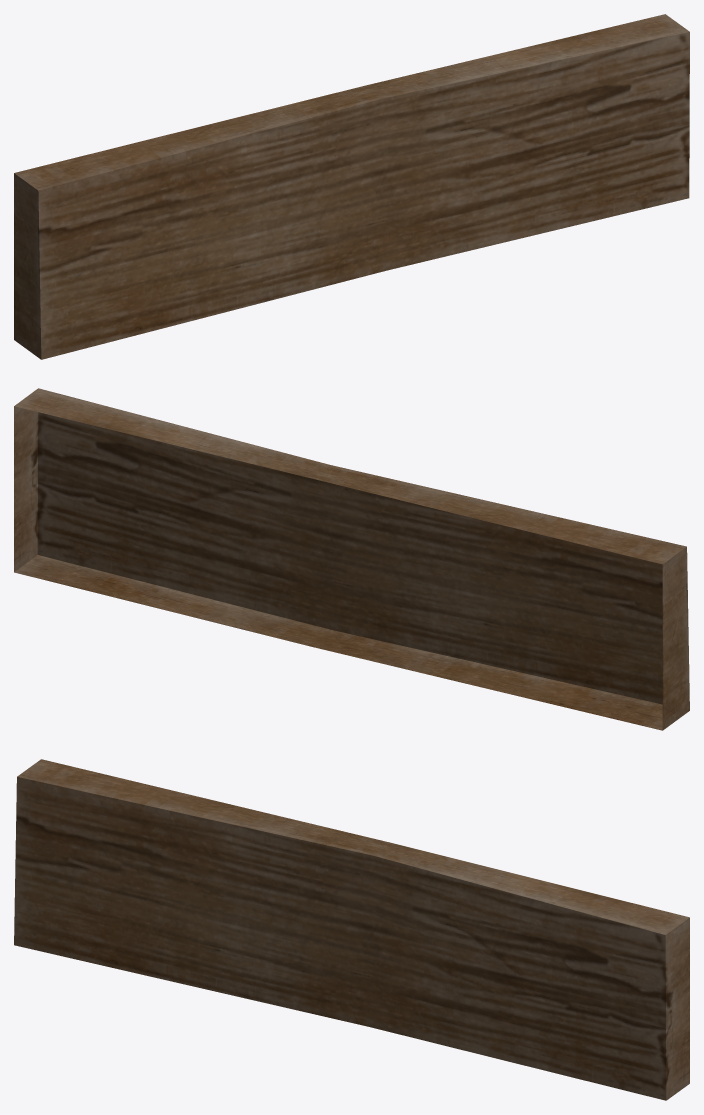
3 renders of one model, top to bottom at view 1: azimuth 30°, elevation 25°; view 2: azimuth 150°, elevation 25°; view 3: azimuth 330°, elevation 25°, orthographic.
Visible parts, largest first — view 1: LP.002; view 2: LP.002; view 3: LP.002.
Boxes of the visible parts, x1,y1,x2,y2 form: LP.002: (14,14,689,359); LP.002: (14,388,689,730); LP.002: (14,759,689,1100).
Bounding box in the file's own units: 3016 × 749 × 225.
Materials: 1 (1 with a texture image).
